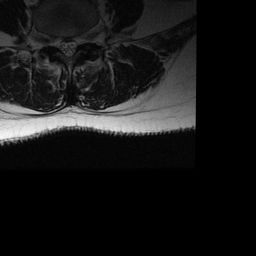CCS_normal: (65, 34, 71, 62)
LFS_normal: (78, 27, 85, 50)
LLS_normal: (71, 34, 78, 57)
RFS_normal: (49, 29, 58, 52)
RLS_normal: (58, 34, 65, 56)
